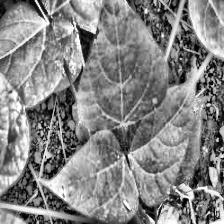ALS: (76, 5, 169, 131), (40, 131, 142, 221)
